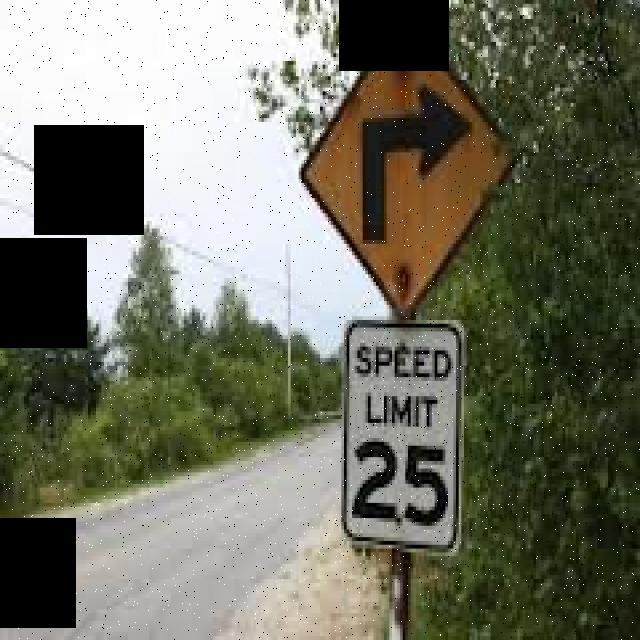regulatory: (340, 318, 468, 557)
warning: (296, 11, 524, 322)
